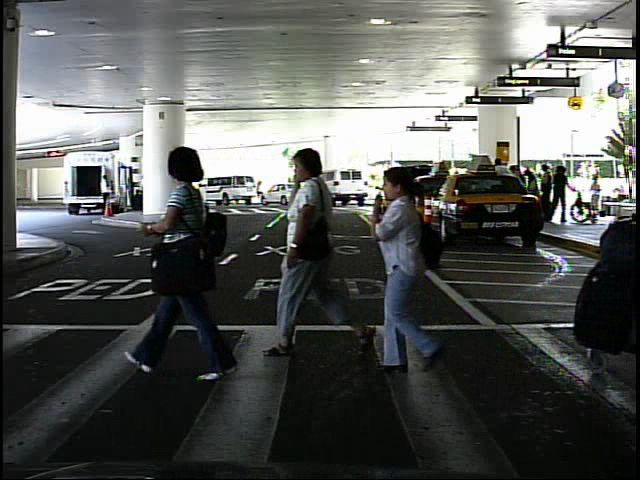person: (133, 138, 251, 386), (361, 160, 469, 381), (272, 139, 371, 361), (588, 173, 607, 218), (98, 172, 116, 196), (254, 177, 265, 204)
